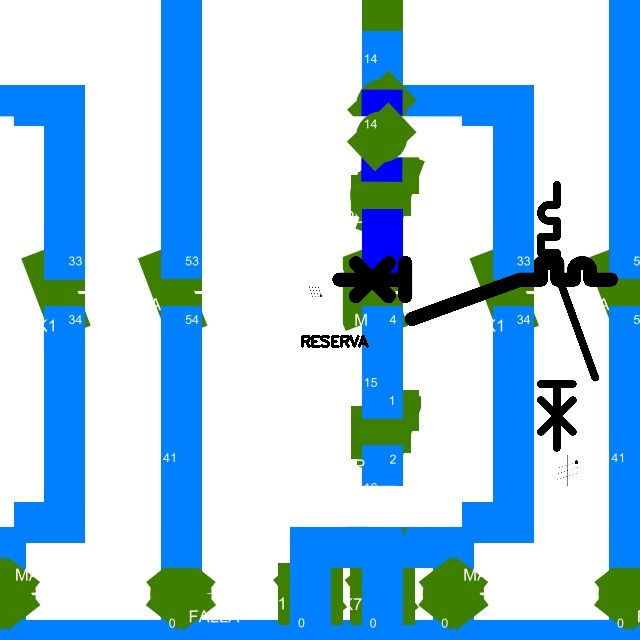interruptor_termomagnetico: (332, 256, 618, 326), (534, 178, 602, 455)
